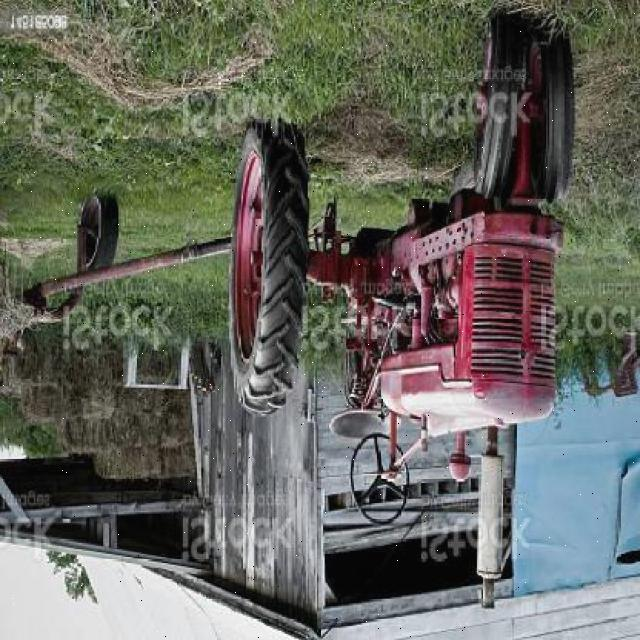Tratores - v5 YOLO V8L 2024-11-13: (176, 2, 630, 536)
